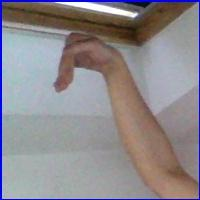del: (48, 29, 125, 100)
